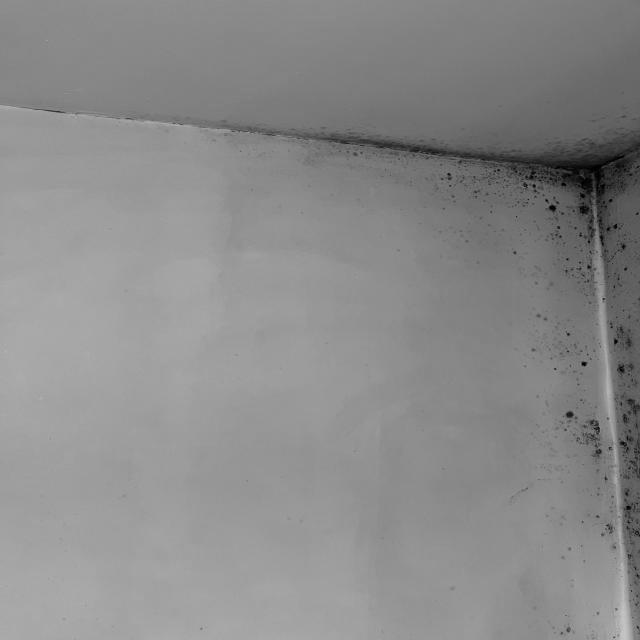stain marks: (184, 110, 640, 181), (551, 182, 636, 480), (497, 480, 640, 640), (453, 226, 553, 290), (411, 182, 552, 225), (514, 304, 552, 371)
